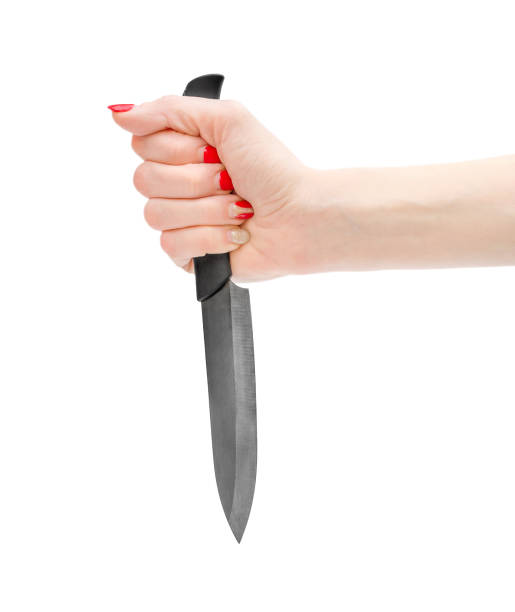knife: (182, 71, 259, 544)
